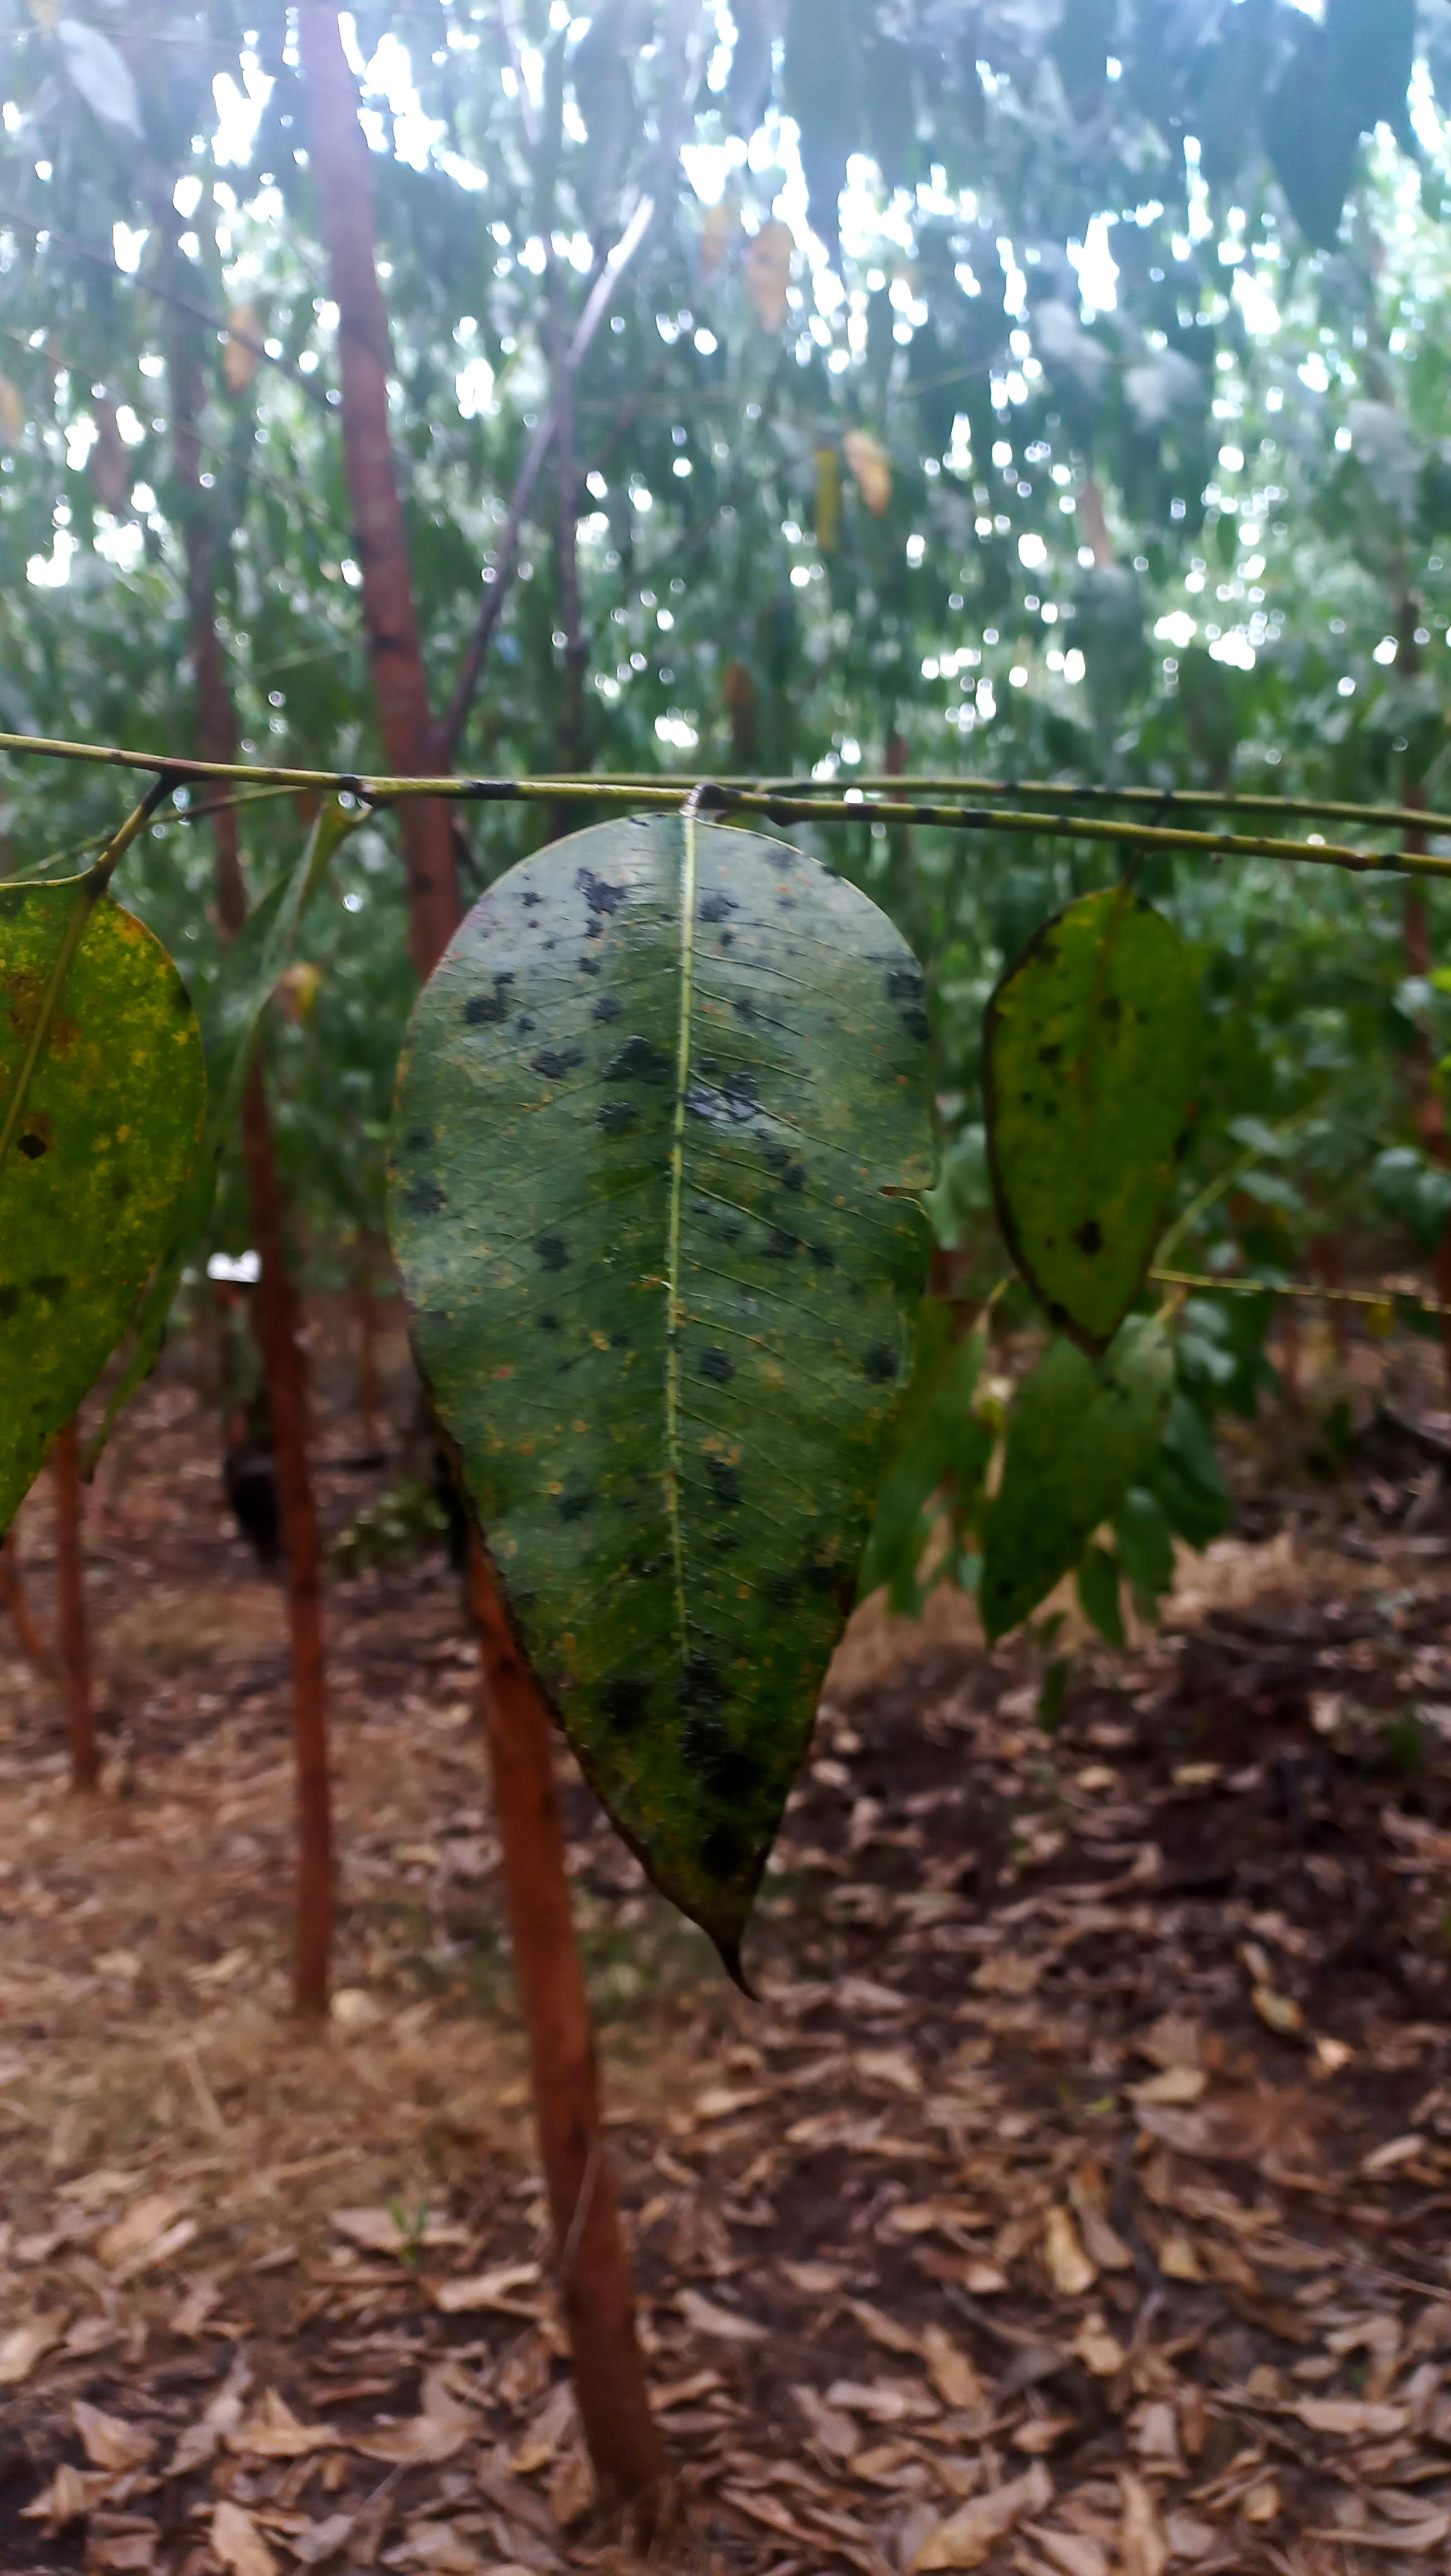Embun Jelaga: (396, 803, 929, 1992), (0, 870, 191, 1541), (987, 881, 1210, 1364)
